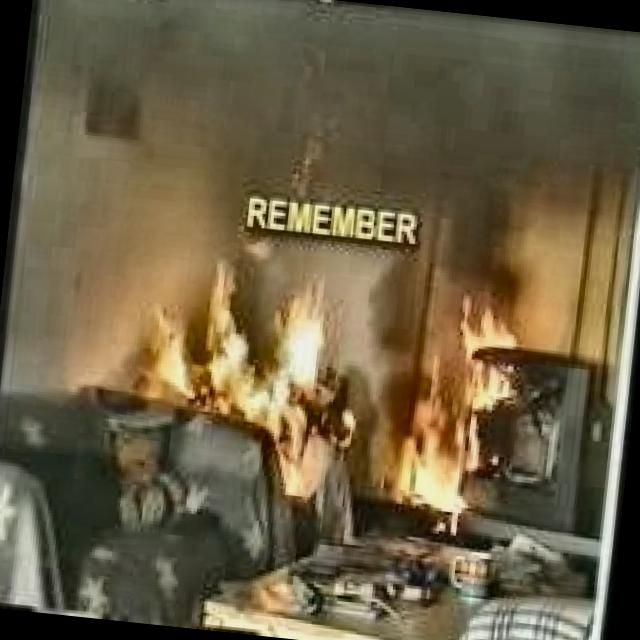fire: (122, 206, 546, 549)
